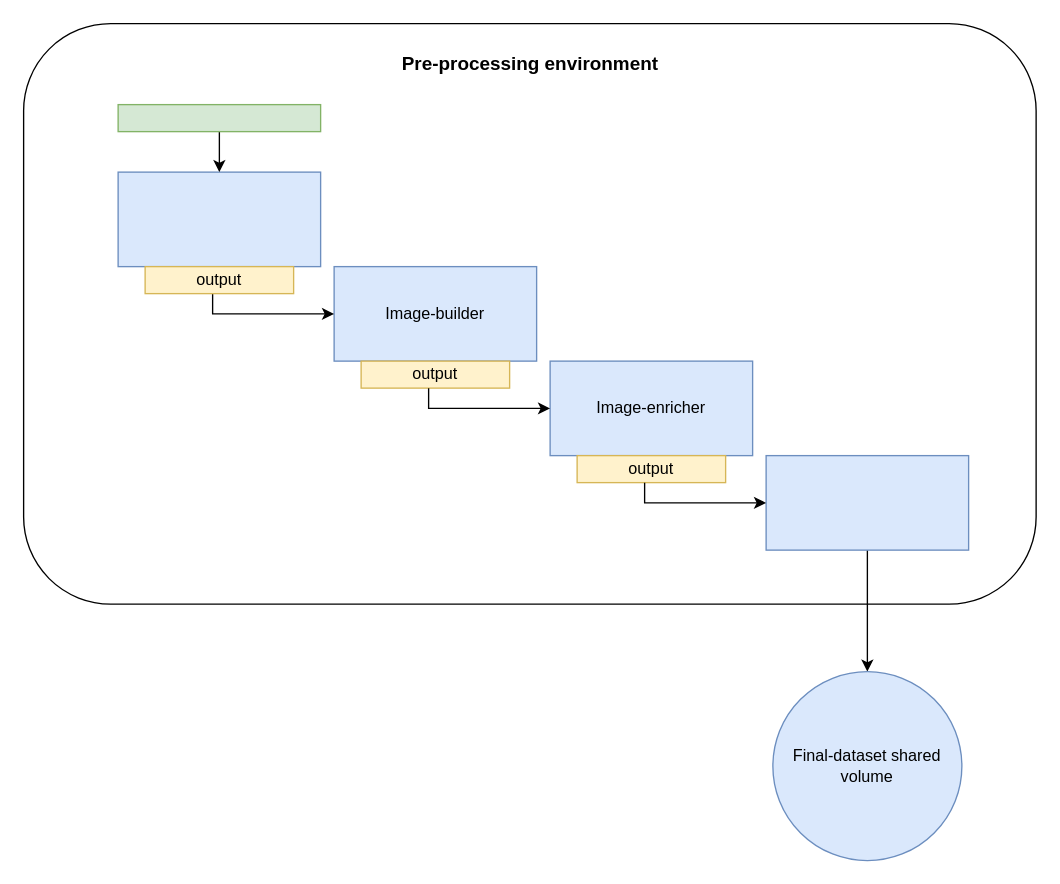
Image size: 1060x884. Some labels were removed from this diagram. The box of each missing label's shape, as (x1, y1, x2, y2) in pixels:
Final-dataset: (765, 454, 969, 550)
Interleaved-dataframe: (117, 171, 321, 267)
Original dataset: (117, 103, 321, 132)
